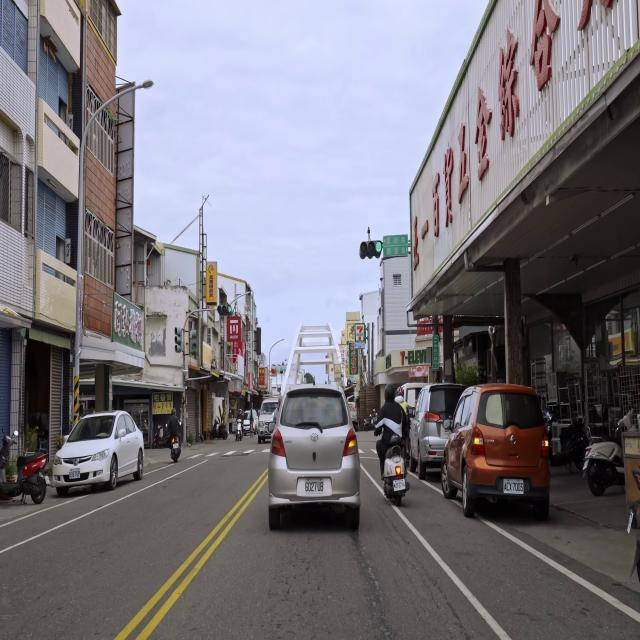green light: (358, 240, 382, 256), (216, 305, 232, 313)
